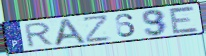6: (114, 13, 137, 39)
9: (141, 8, 170, 37)
A: (53, 17, 89, 48)
E: (167, 6, 201, 35)
R: (24, 21, 55, 49)
Z: (82, 13, 113, 44)
